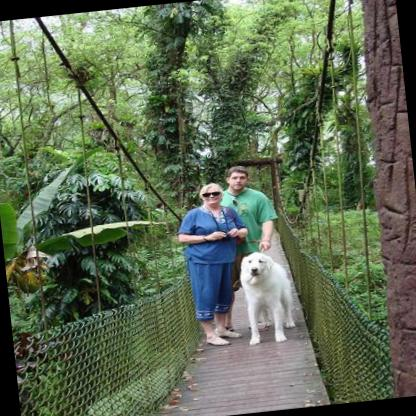Great_Pyrenees: (235, 247, 297, 344)
